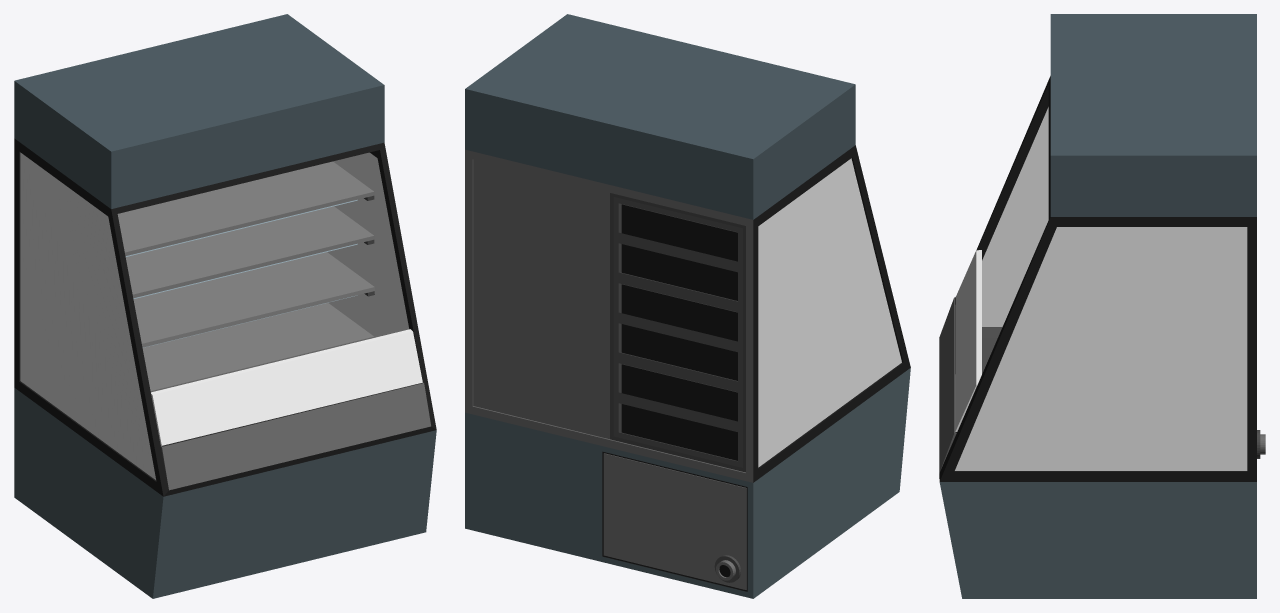
The model's file is Open Cooler #2.fbx.
3 renders of one model, left to right at view 1: azimuth 30°, elevation 25°; view 2: azimuth 150°, elevation 25°; view 3: azimuth 270°, elevation 25°, orthographic. The views are drawn at different scales.
Parts seen in each view (by area): view 1: Open Cooler #2; view 2: Open Cooler #2; view 3: Open Cooler #2.
Part boxes in pixels (left/top/right/bottom): Open Cooler #2: left=14, top=14, right=436, bottom=598; Open Cooler #2: left=465, top=14, right=910, bottom=598; Open Cooler #2: left=939, top=14, right=1265, bottom=598.
Bounding box in the file's own units: 112 × 163 × 109.
3 materials, 2 textured.
